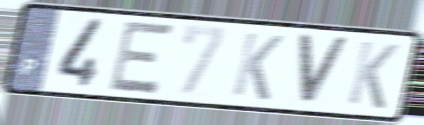4: (53, 15, 108, 92)
7: (177, 23, 232, 101)
E: (105, 18, 178, 97)
K: (228, 29, 286, 104), (344, 38, 402, 112)
V: (295, 31, 352, 109)
